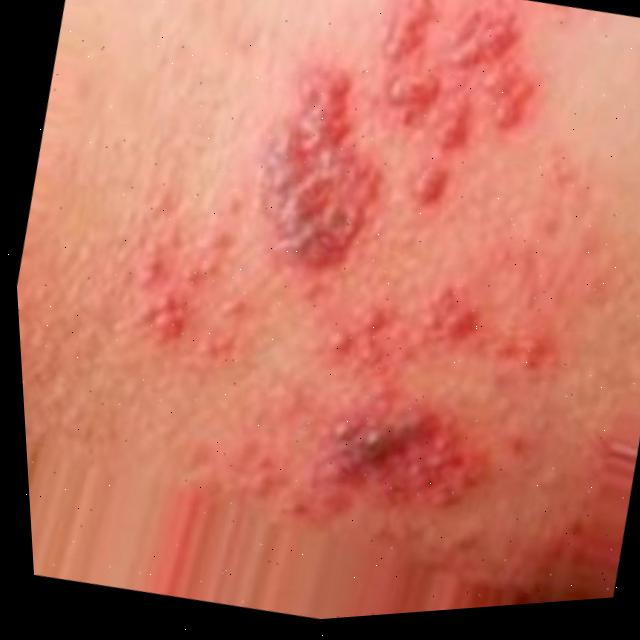Shingles: (52, 0, 626, 599)
